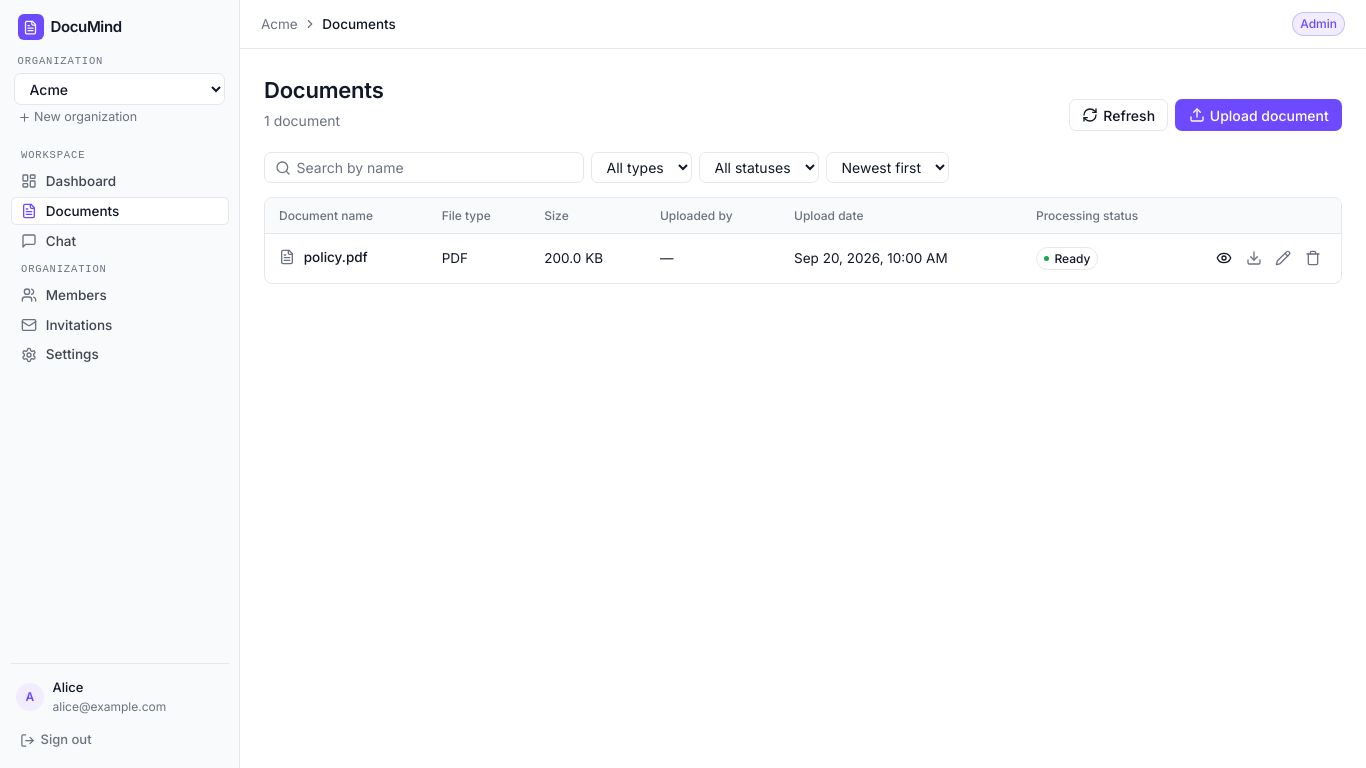
it: Documents page › deletes a document after confirmation
Click the button named "Delete policy.pdf". click: (1313, 258)
box: x1=1299 y1=244 x2=1327 y2=272
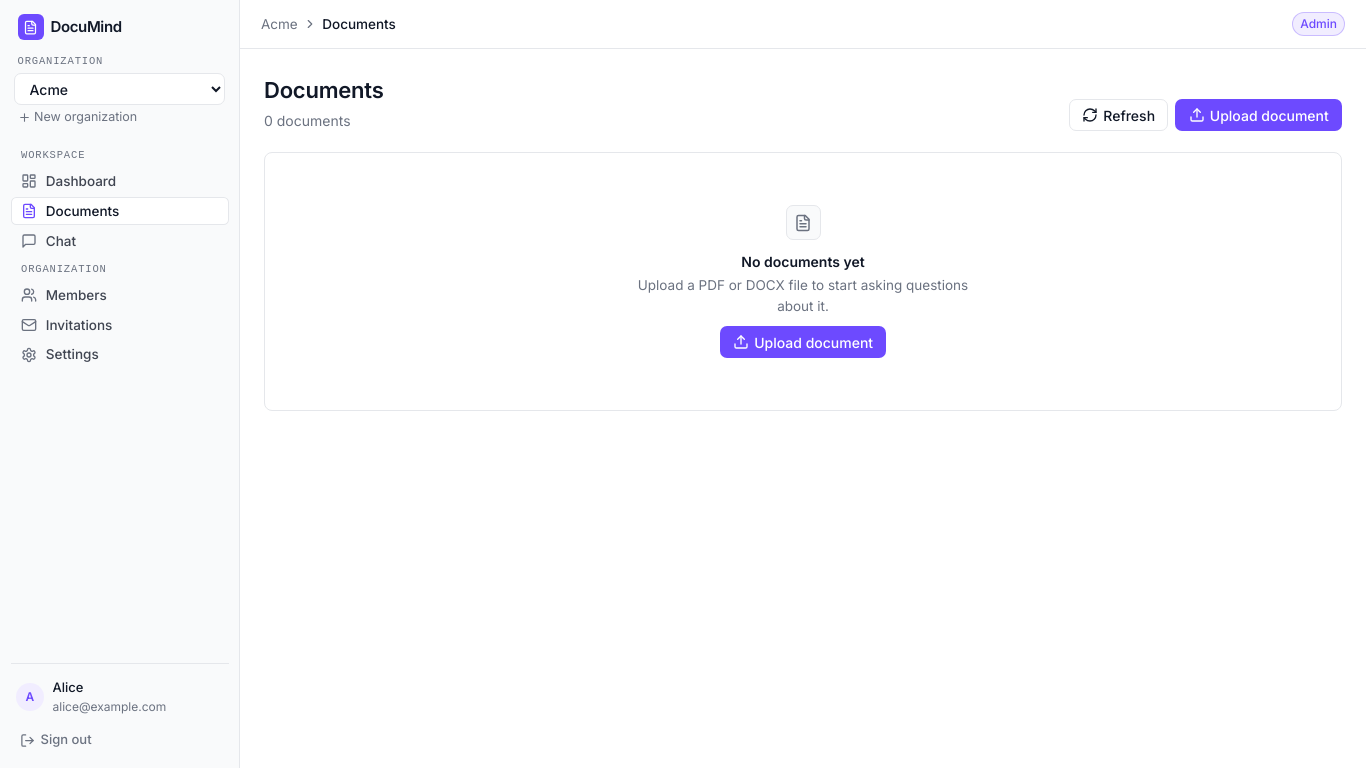
Result: the text "No documents yet" is shown at x1=741 y1=251 x2=865 y2=272
